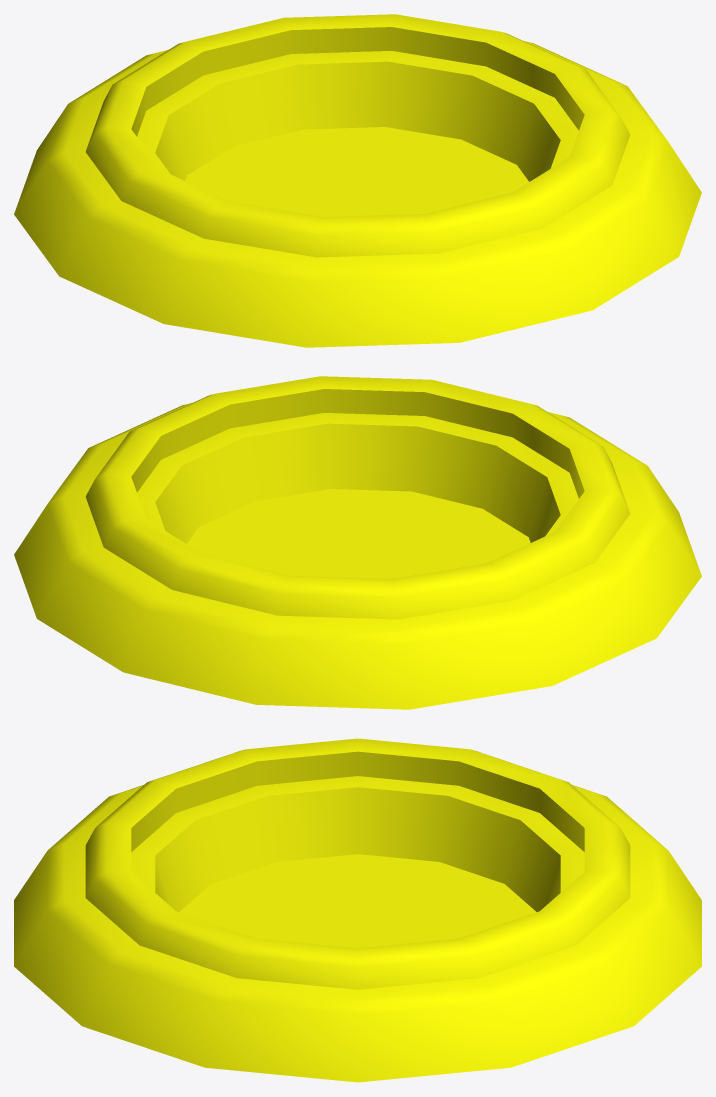
The picture shows the model from 3 angles, top to bottom: view 1: azimuth 30°, elevation 25°; view 2: azimuth 150°, elevation 25°; view 3: azimuth 270°, elevation 25°; orthographic projection. The views are drawn at different scales.
Visible parts, largest first — view 1: Base, Circle; view 2: Base, Circle; view 3: Base, Circle.
Part boxes in pixels (<box>): Base: <box>14,41,701,347</box>; Circle: <box>85,14,630,257</box>; Base: <box>14,403,701,709</box>; Circle: <box>85,376,630,619</box>; Base: <box>14,776,701,1082</box>; Circle: <box>85,738,630,989</box>.
Size of the model in its own units: 0.0155 by 0.00209 by 0.0151.
Materials: 1 (1 with a texture image).
